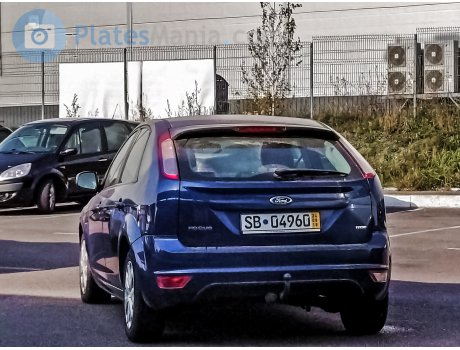License Plates: (243, 214, 312, 232)
